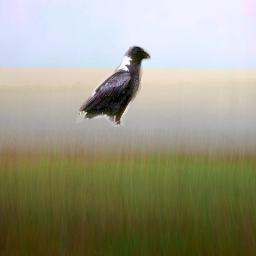Crow: (76, 43, 151, 127)
